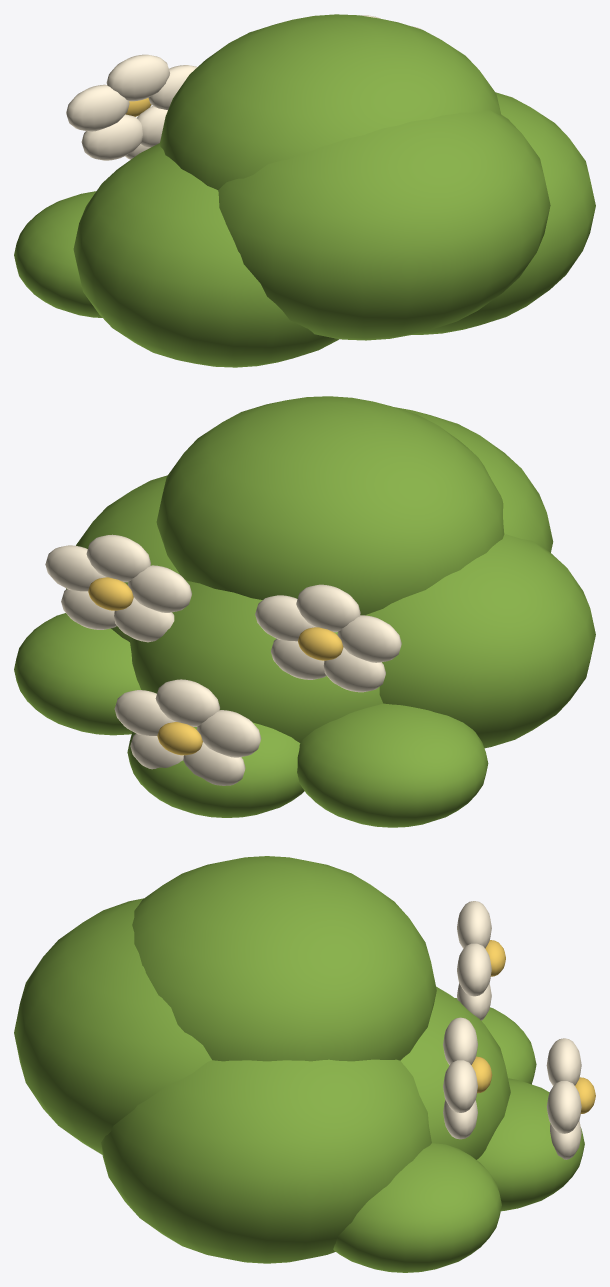
File: flower_ready.fbx
3 views of the same model, one above another, from view 1: azimuth 30°, elevation 25°; view 2: azimuth 150°, elevation 25°; view 3: azimuth 270°, elevation 25° (orthographic). The views are drawn at different scales.
Parts seen in each view (by area): view 1: flower_ready; view 2: flower_ready; view 3: flower_ready.
Boxes of the visible parts, x1=… form: flower_ready: x1=14, y1=14, x2=595, y2=367; flower_ready: x1=14, y1=396, x2=595, y2=827; flower_ready: x1=14, y1=856, x2=595, y2=1272.
Bounding box in the file's own units: 1 × 0.6 × 1.
1 material, 1 textured.
